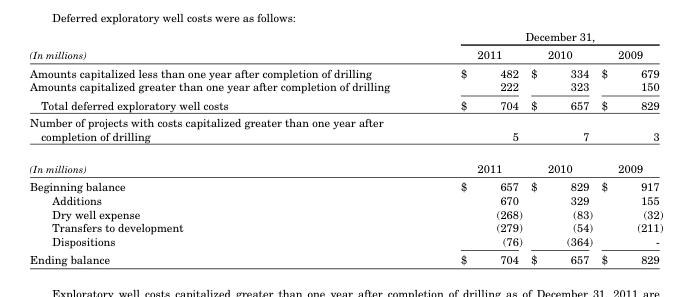table: (29, 29, 662, 265)
table column: (29, 29, 424, 265), (424, 29, 525, 265), (525, 29, 596, 265), (596, 29, 662, 265)
table column header: (29, 29, 662, 63)
table row: (29, 113, 662, 151), (29, 151, 662, 177), (29, 44, 662, 63), (29, 95, 662, 113), (29, 63, 662, 79), (29, 79, 662, 95), (29, 177, 662, 193), (29, 233, 662, 249), (29, 249, 662, 265), (29, 29, 662, 44), (29, 206, 662, 220), (29, 193, 662, 206), (29, 220, 662, 233)
table spanning cell: (29, 29, 424, 63), (424, 29, 662, 44)
